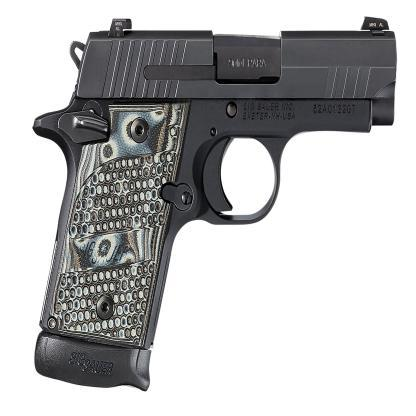Pistol: (32, 16, 398, 392)
